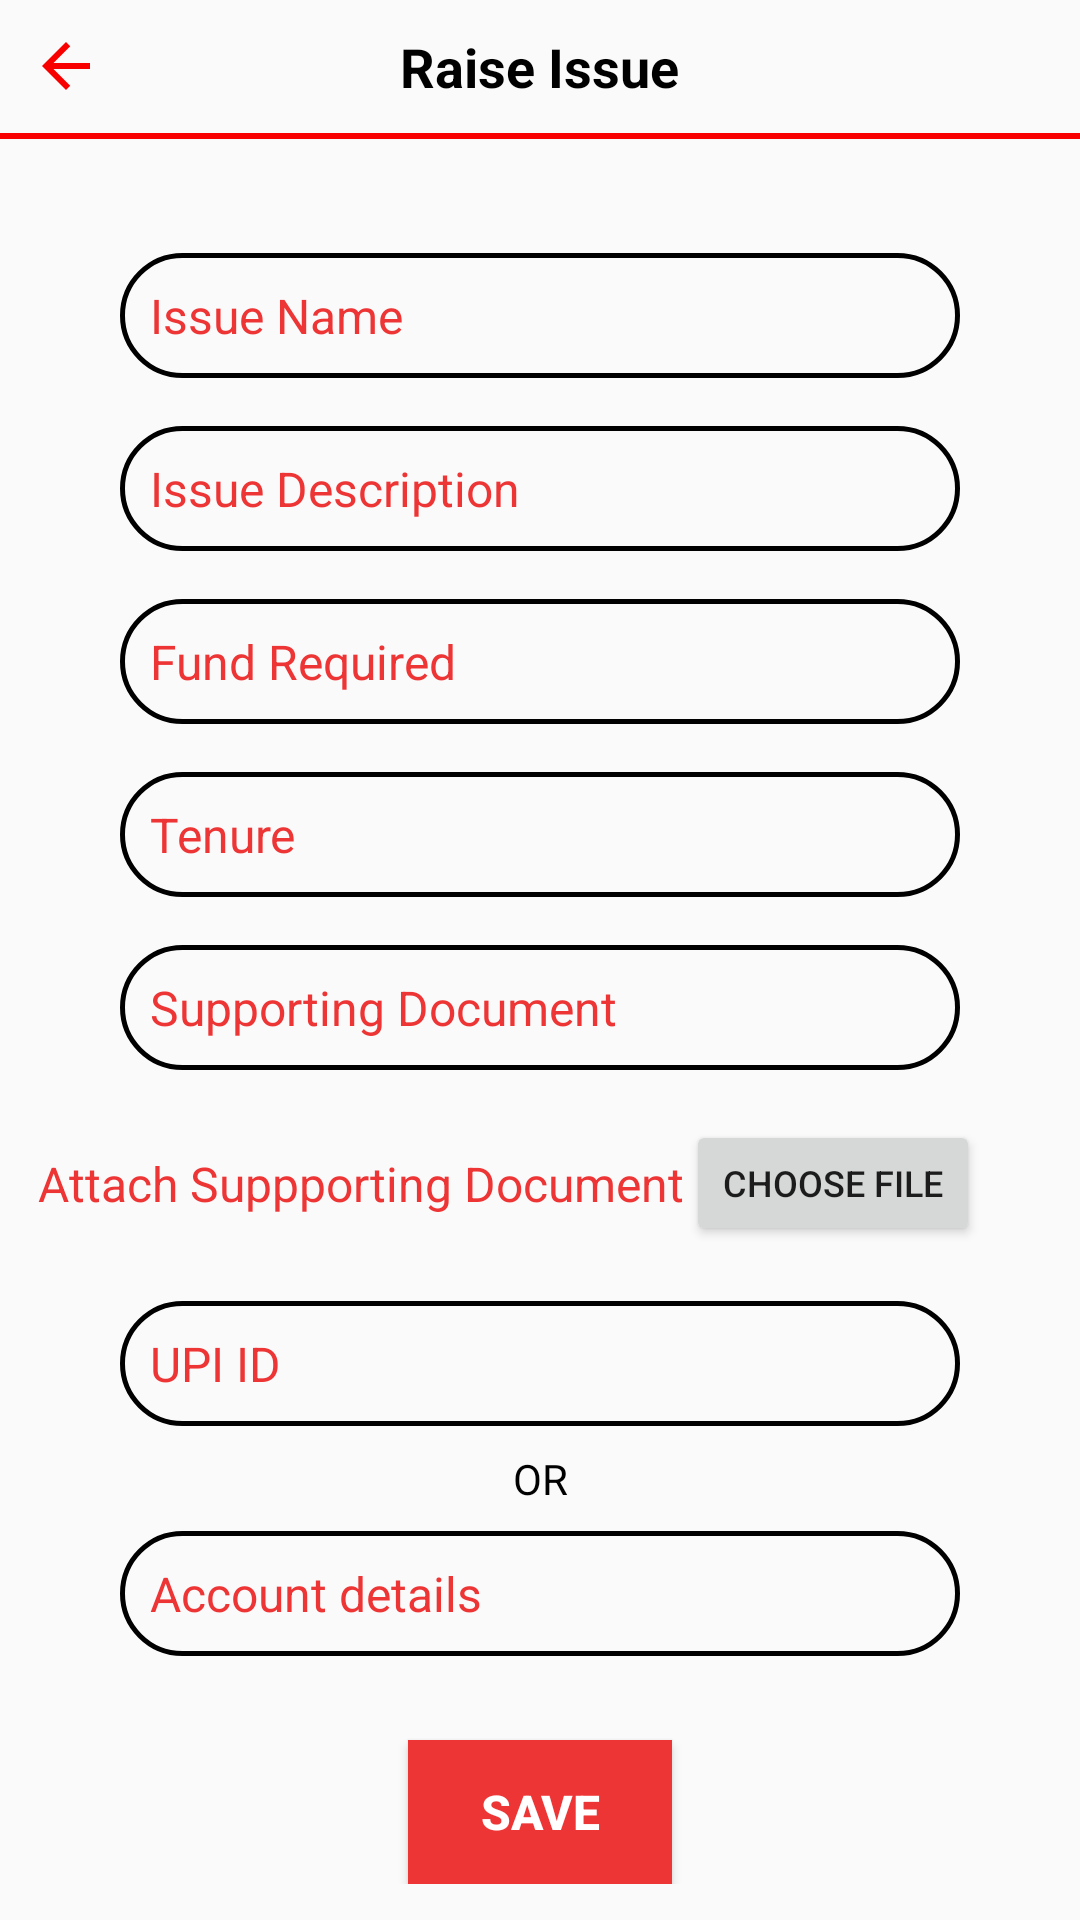

Icon click points for this 1080 x 1920 phone screenshot, format (x,y):
arrow back: (66,66)
